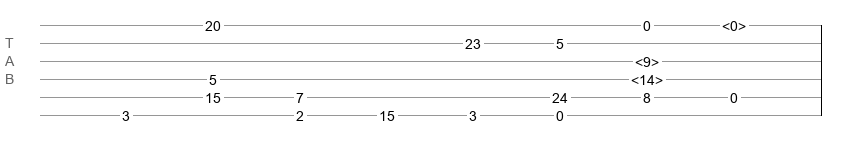0: (556, 108, 564, 118), (643, 18, 651, 28), (730, 90, 738, 100)
15: (205, 90, 221, 100), (379, 108, 395, 118)
2: (296, 108, 304, 118)
20: (205, 18, 221, 28)
23: (465, 36, 481, 46)
24: (552, 90, 568, 100)
3: (122, 108, 130, 118), (469, 108, 477, 118)
5: (209, 72, 217, 82), (556, 36, 564, 46)
7: (296, 90, 304, 100)
8: (643, 90, 651, 100)
harmonic: (631, 72, 663, 82), (635, 54, 659, 64), (722, 18, 746, 28)
